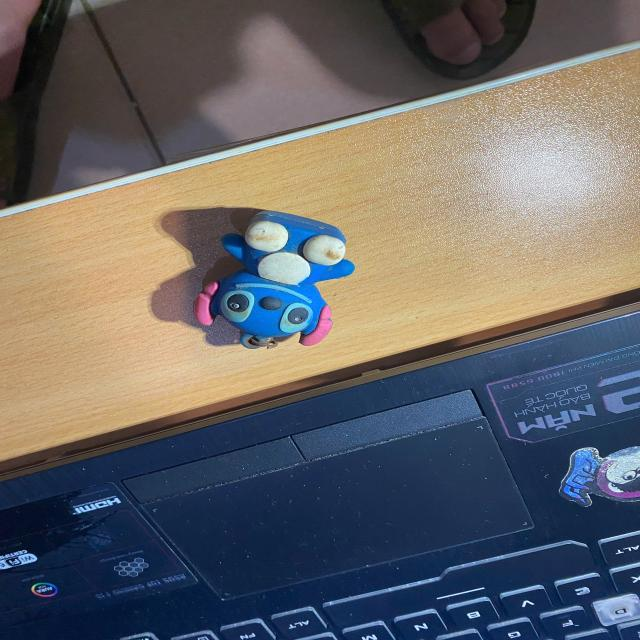stick: (194, 211, 356, 351)
